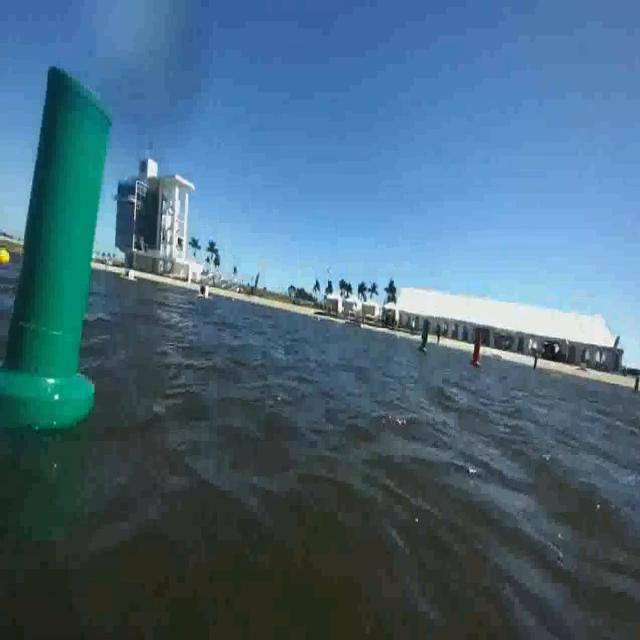green-column-buoy: (0, 99, 110, 433), (418, 318, 432, 355)
red-column-buoy: (469, 329, 484, 368)
yellow-buoy: (0, 246, 11, 267)
